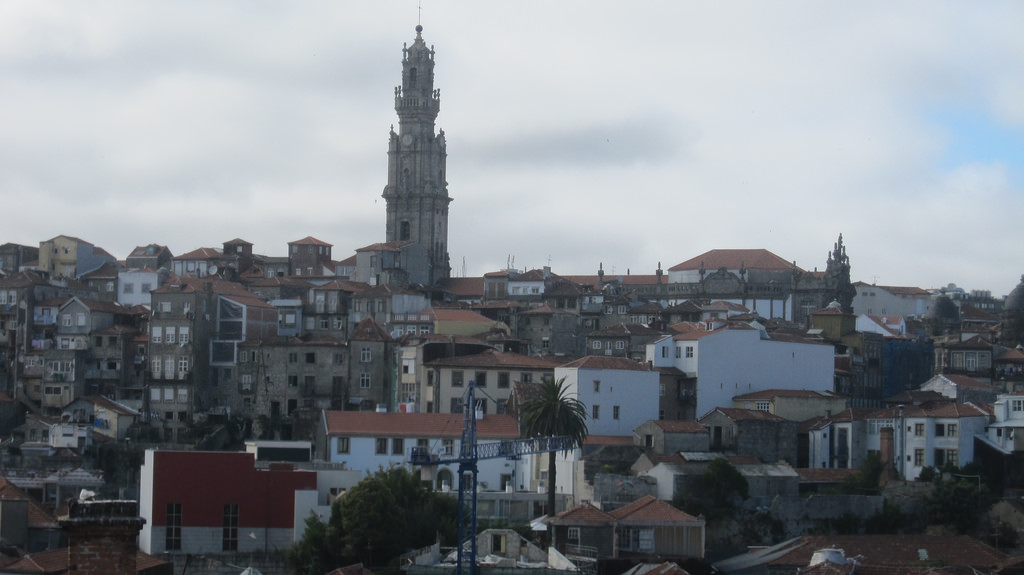clerigos: (381, 0, 451, 296)
